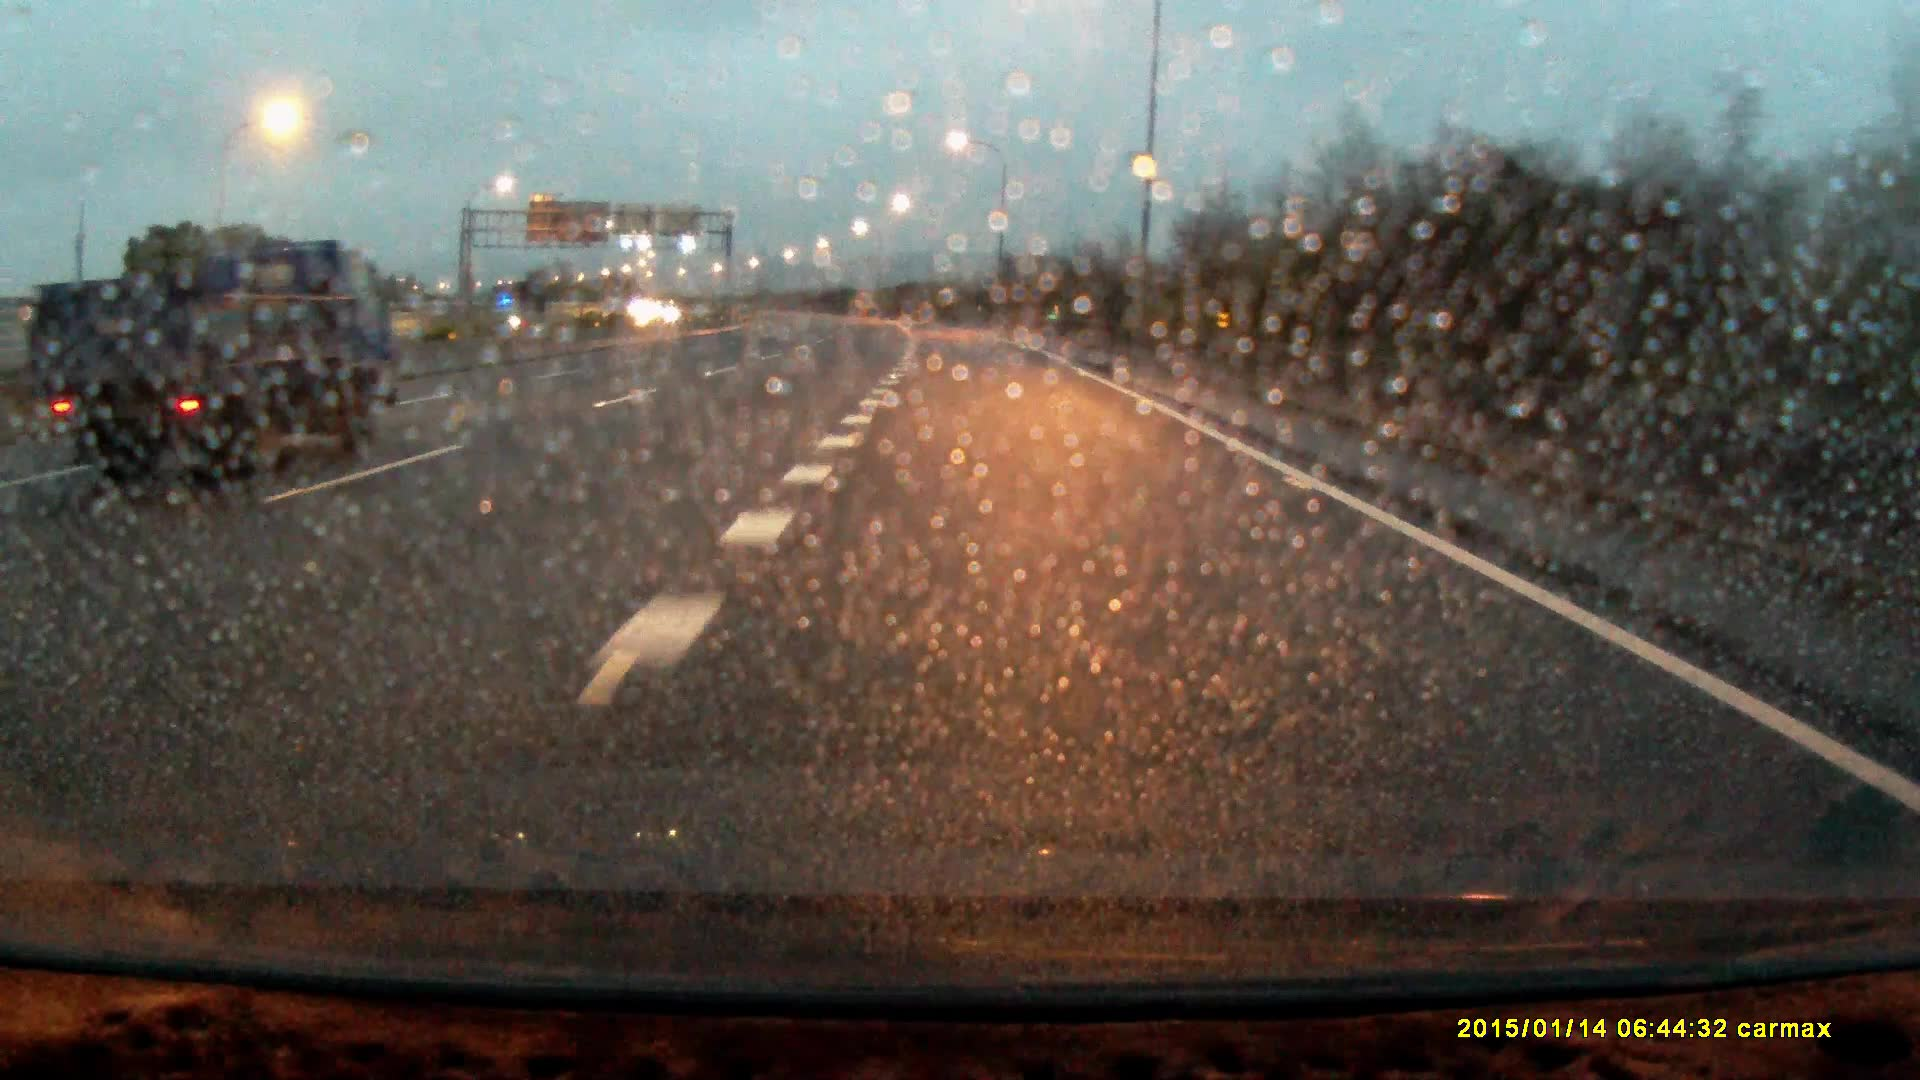vehicle: (34, 228, 388, 498)
